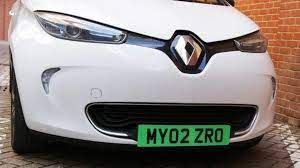number_plates: (139, 126, 230, 145)
